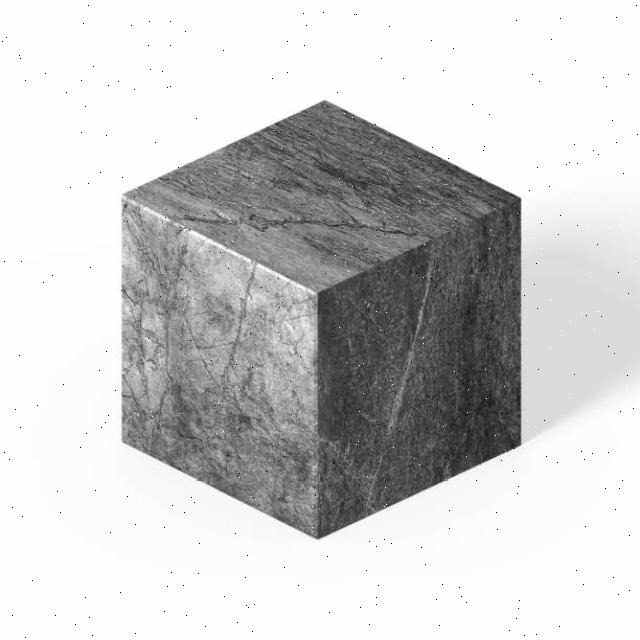Metamorphic: (112, 83, 534, 528)
